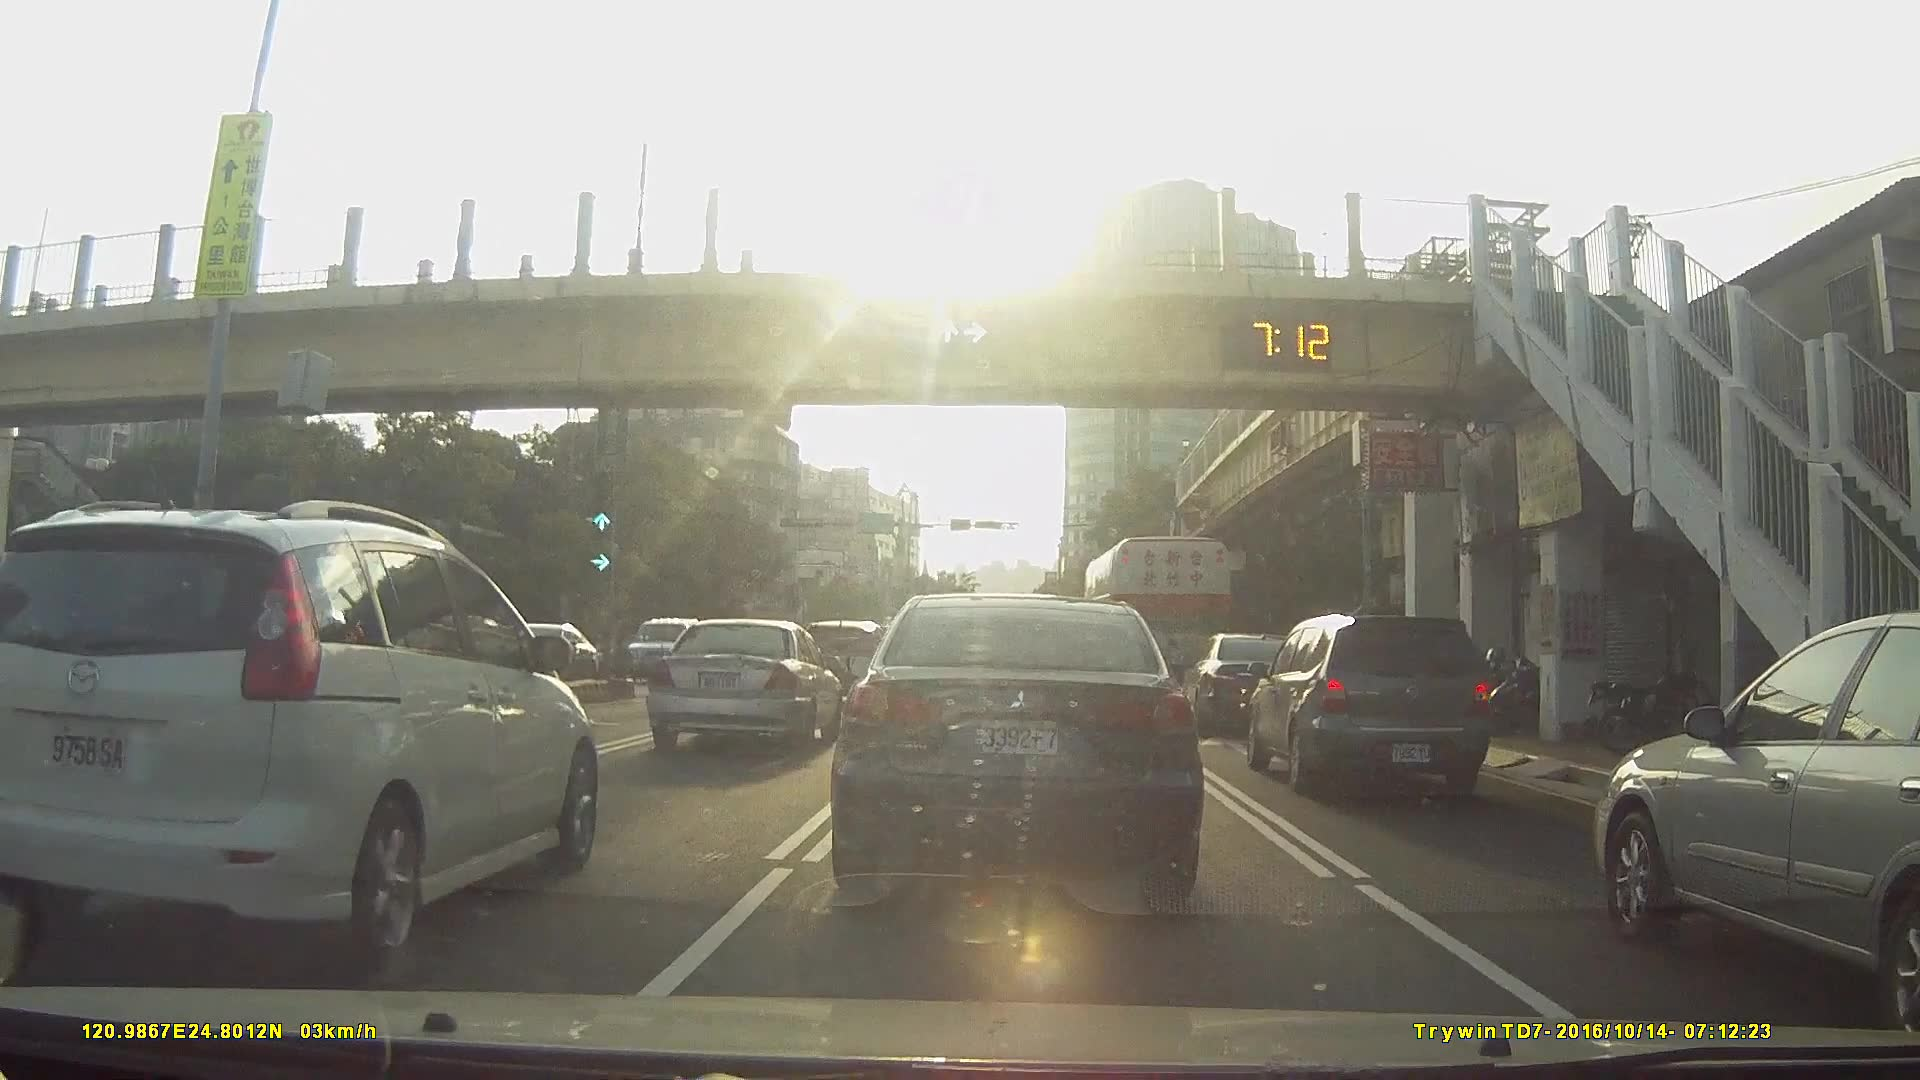vehicle: (0, 497, 603, 953), (1589, 608, 1920, 1033), (825, 587, 1200, 919), (1238, 611, 1489, 796), (646, 615, 844, 754), (1183, 632, 1307, 733), (463, 618, 603, 698), (771, 609, 865, 695), (616, 615, 715, 680)
